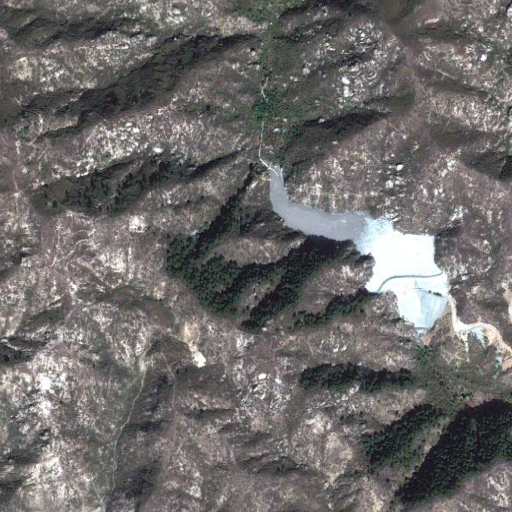tp: (262, 162, 447, 334)
